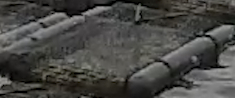bag: (2, 3, 235, 96)
